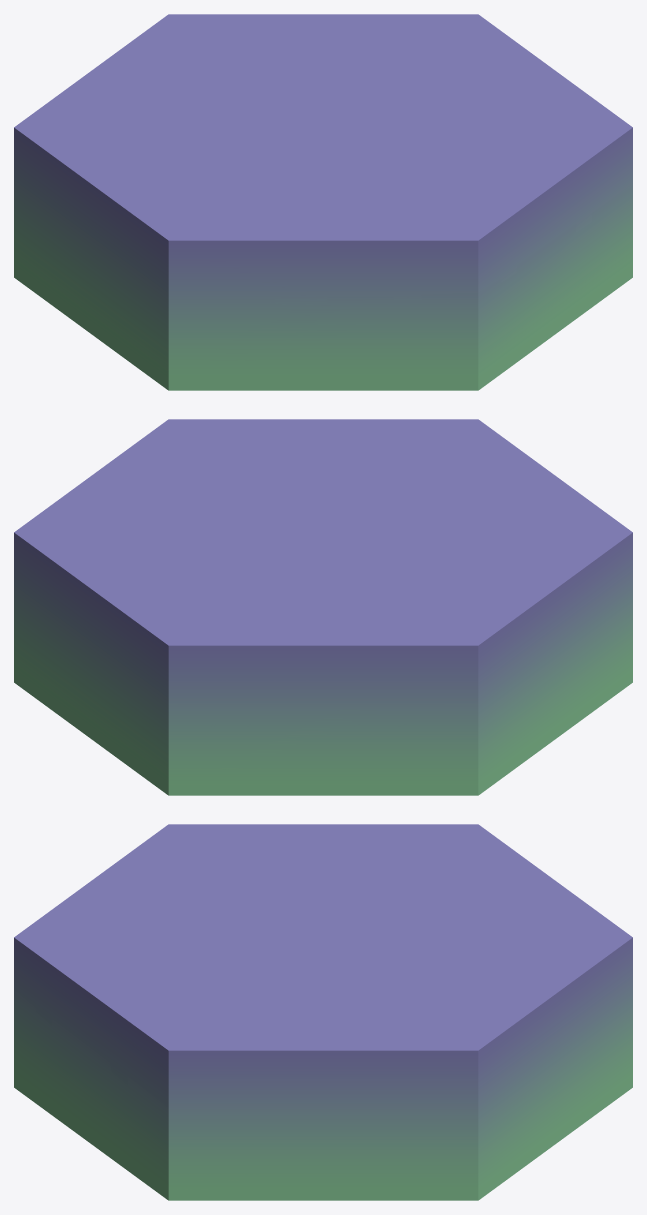
File: Grade_8.fbx
The picture shows the model from 3 angles, top to bottom: view 1: azimuth 30°, elevation 25°; view 2: azimuth 150°, elevation 25°; view 3: azimuth 270°, elevation 25°; orthographic projection.
Visible parts, largest first — view 1: Grade_2.005; view 2: Grade_2.005; view 3: Grade_2.005.
Boxes of the visible parts, <box> form: Grade_2.005: <box>14,14,632,390</box>; Grade_2.005: <box>14,419,632,795</box>; Grade_2.005: <box>14,824,632,1200</box>.
Size of the model in its own units: 1.73 by 2 by 0.5351.
